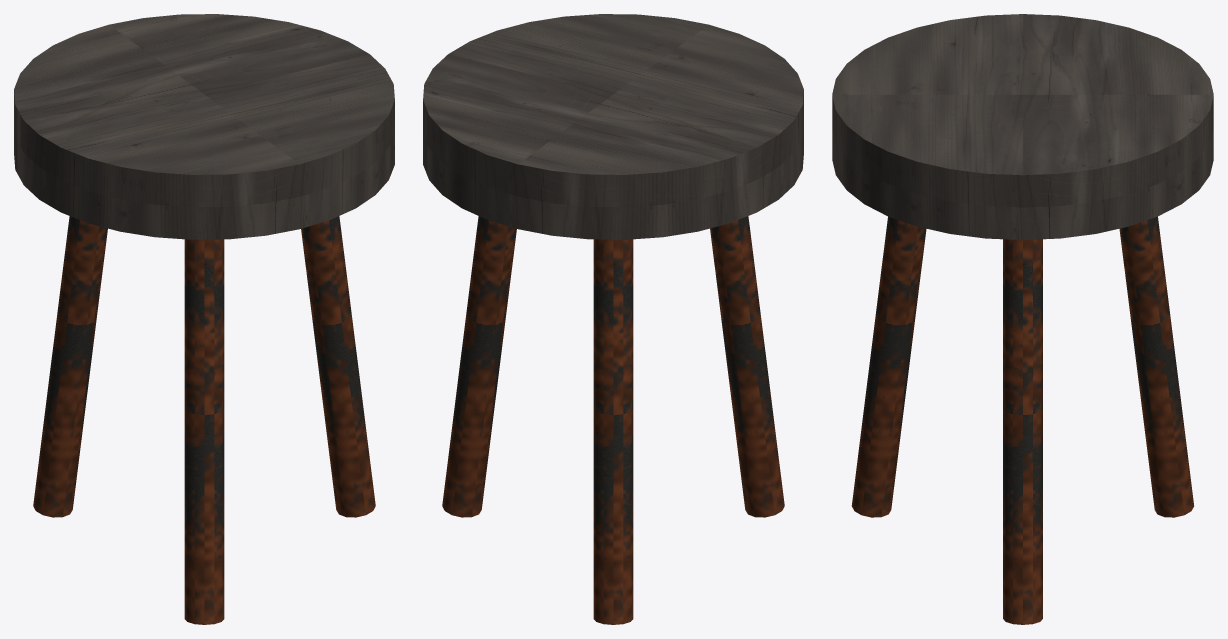
The model's file is SM_TicketStool_e1f082f4e7.fbx.
3 views of the same model, side by side, from view 1: azimuth 30°, elevation 25°; view 2: azimuth 150°, elevation 25°; view 3: azimuth 270°, elevation 25° (orthographic).
Parts seen in each view (by area): view 1: SM_TicketStool_e1f082f4e7; view 2: SM_TicketStool_e1f082f4e7; view 3: SM_TicketStool_e1f082f4e7.
Boxes of the visible parts, x1=… form: SM_TicketStool_e1f082f4e7: x1=14, y1=14, x2=394, y2=624; SM_TicketStool_e1f082f4e7: x1=423, y1=14, x2=803, y2=624; SM_TicketStool_e1f082f4e7: x1=832, y1=14, x2=1213, y2=624.
Size of what is drawn, in the model's own units: 48.48 by 48 by 62.82.
Materials: 2 (2 with a texture image).
